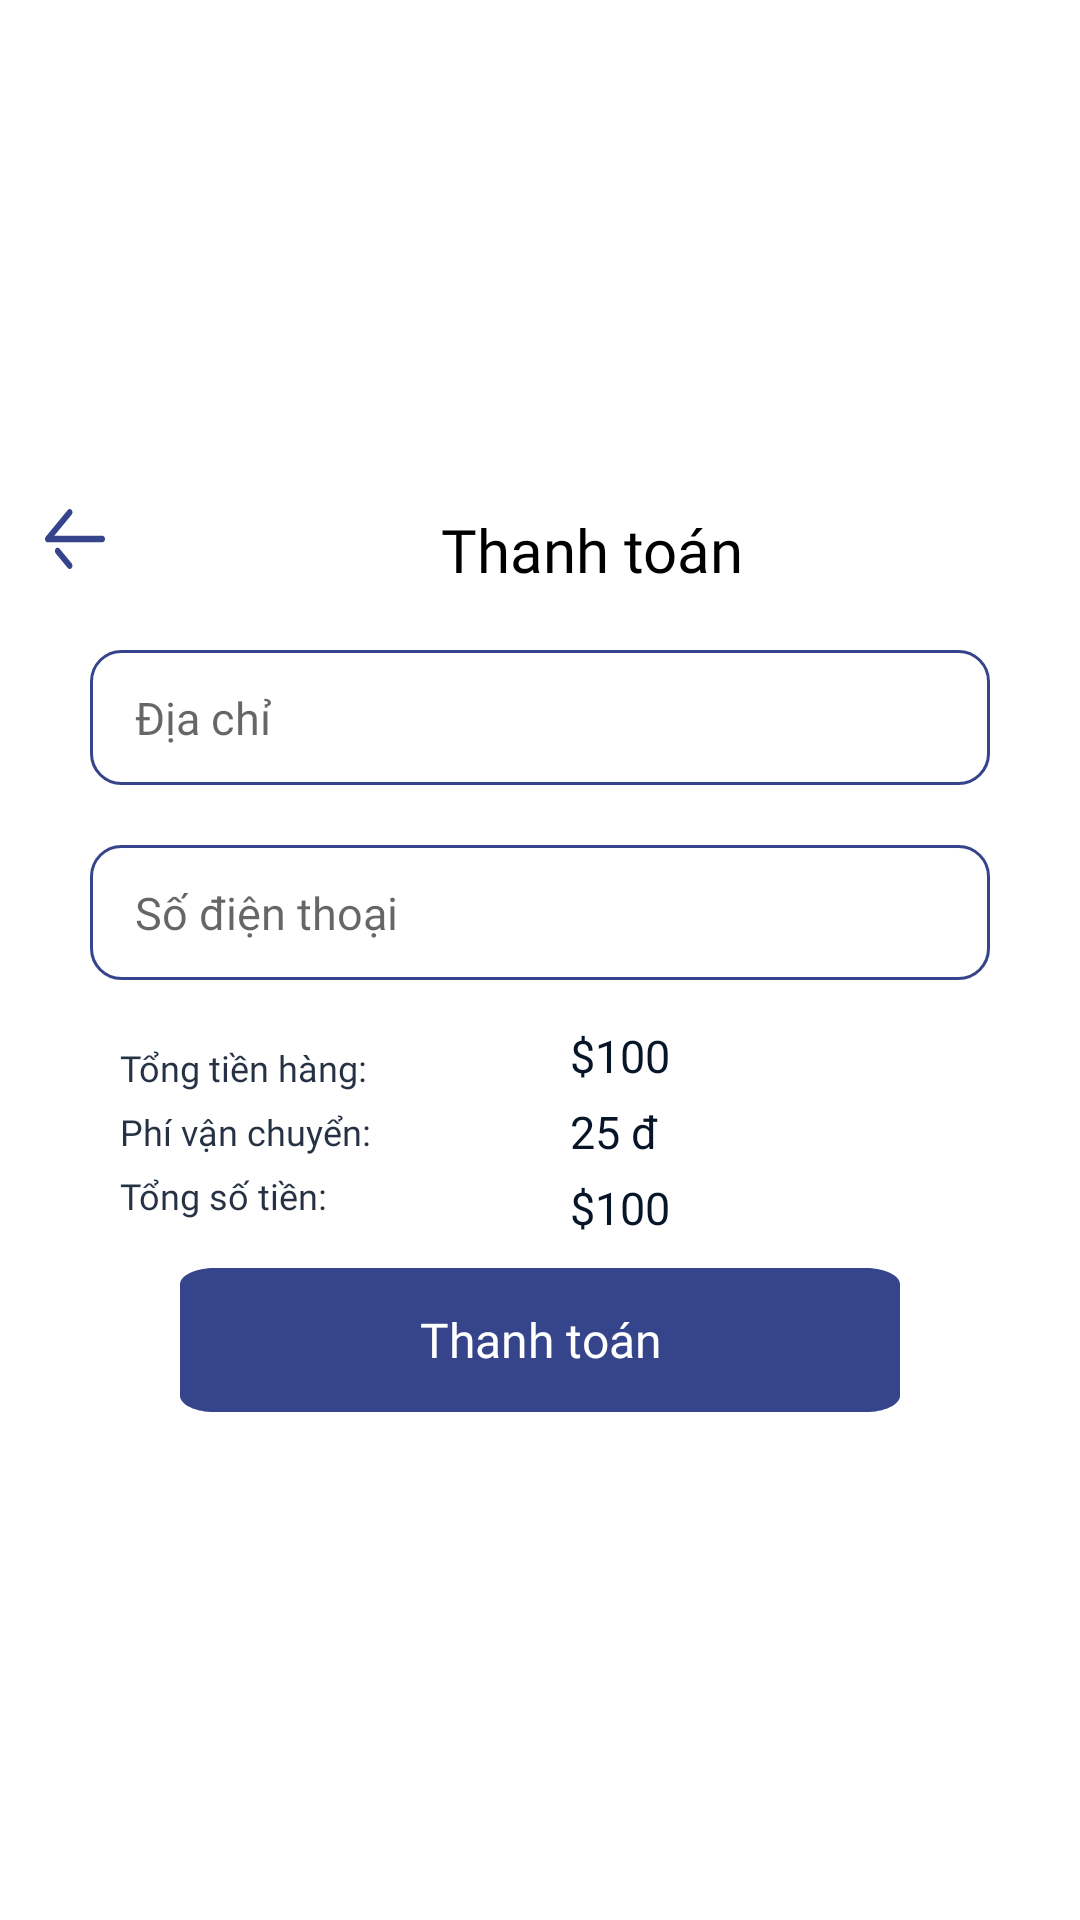

Screen size 1080×1920. Icon name, then its box in pixels as (x1, y1, x2, y2):
back: (45, 509, 105, 569)
